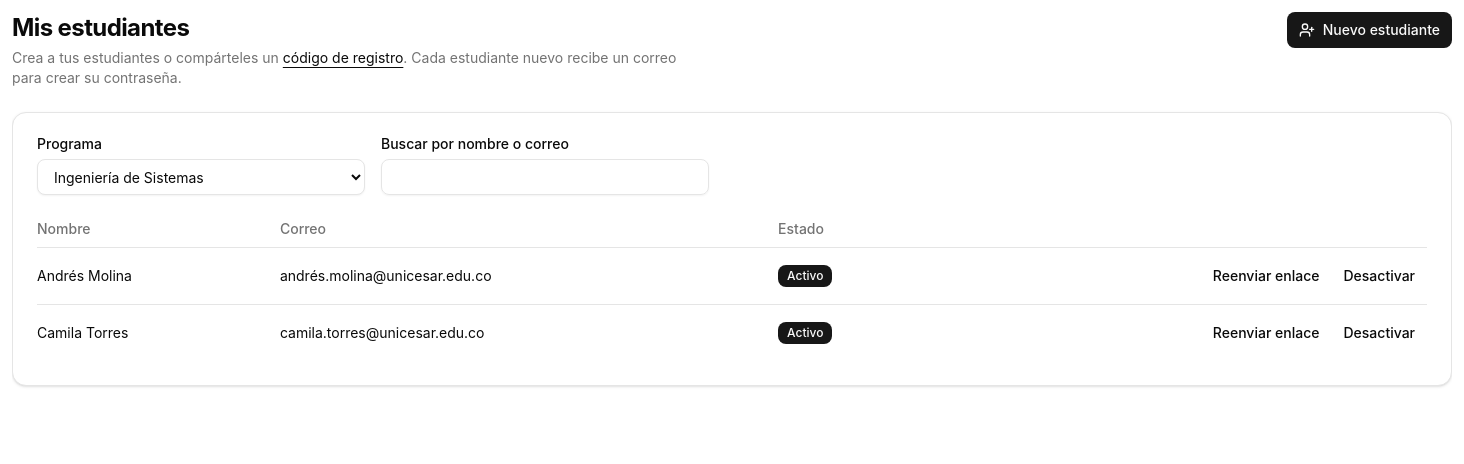
Test: StudentsPage › deactivates a student after confirming
Click the button with aria-label "Desactivar a Camila Torres" at {"x": 1379, "y": 333}, box [1332,317,1427,349]
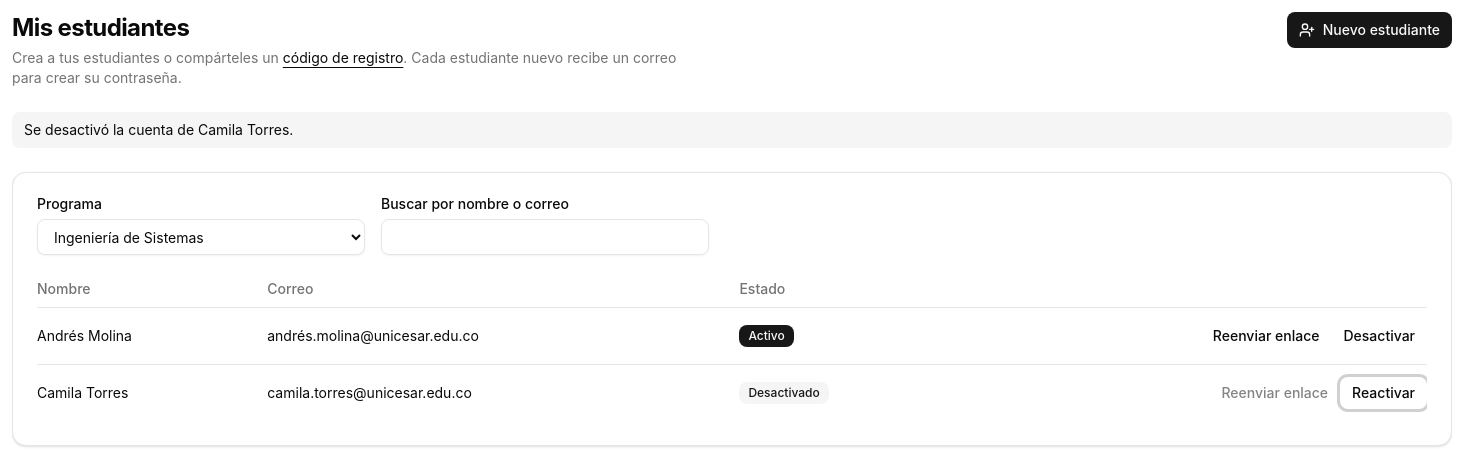
Expected: the text "Desactivado" is shown, [739,382,829,404]
Expected: the button with aria-label "Reenviar enlace a Camila Torres" is disabled, [1210,377,1340,409]
